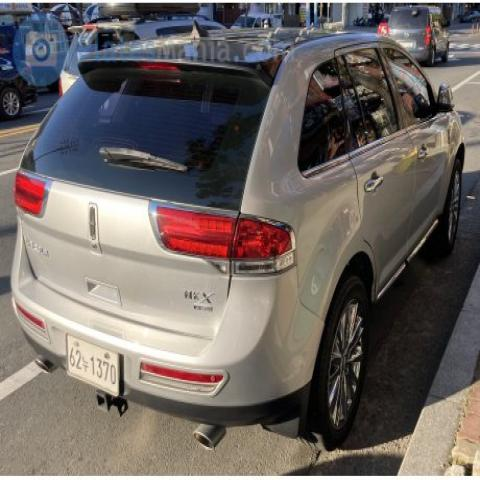LP: (51, 325, 134, 401)
